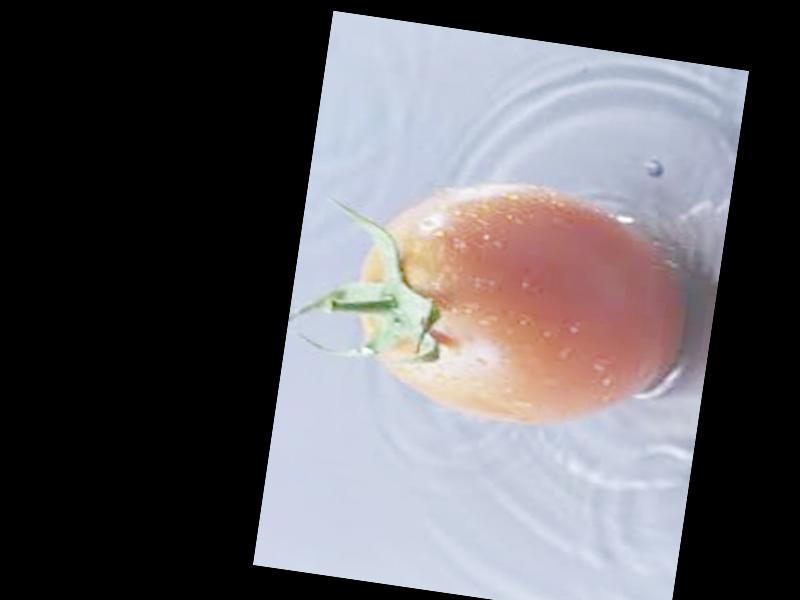Tomato: (345, 166, 700, 443)
